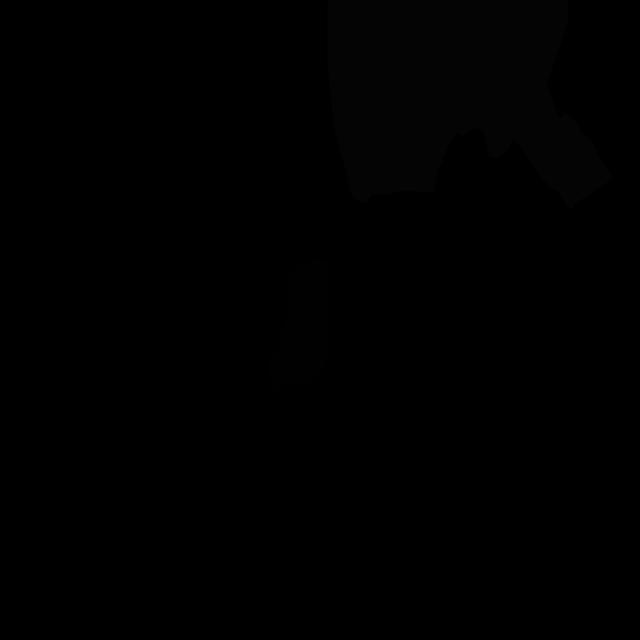rigid_plastic: (268, 257, 331, 391)
soft_plastic: (327, 0, 614, 208)
